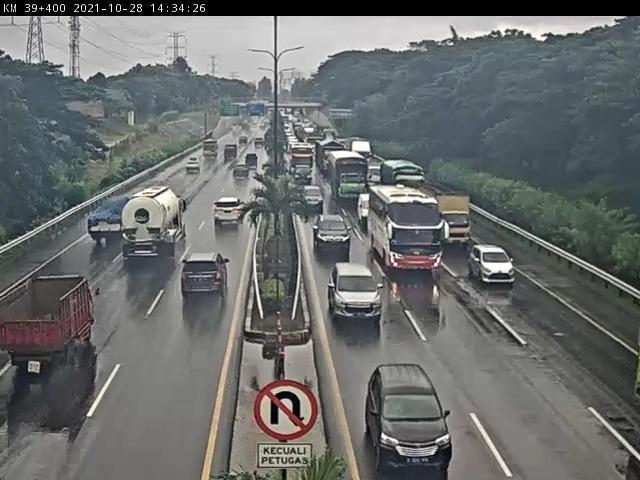bus: (367, 188, 445, 275)
car: (372, 365, 459, 477), (330, 263, 385, 324), (183, 255, 232, 300), (470, 246, 520, 289), (313, 213, 353, 255), (214, 195, 248, 227), (301, 185, 327, 211), (359, 193, 376, 221), (231, 160, 252, 180), (187, 160, 204, 179)
truck: (1, 276, 97, 366), (121, 185, 189, 261), (433, 192, 477, 248), (87, 195, 133, 244), (328, 151, 370, 204), (380, 157, 427, 187)
